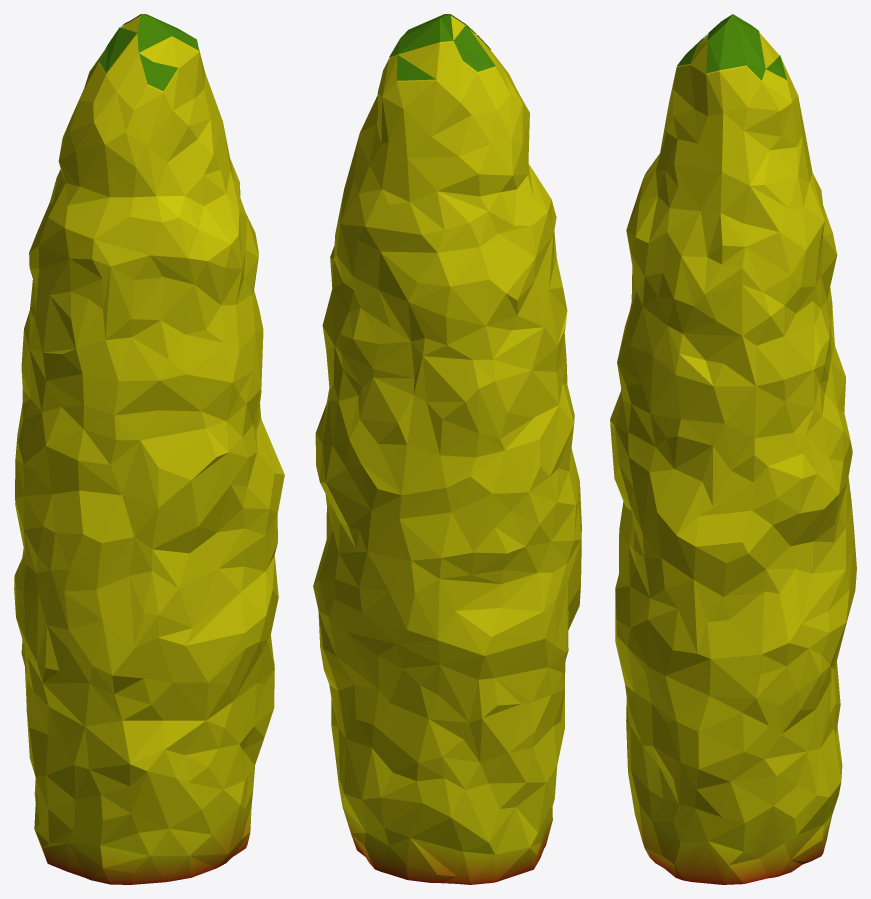
The model's file is canyon_pillar_6.glb.
The picture shows the model from 3 angles, left to right: view 1: azimuth 30°, elevation 25°; view 2: azimuth 150°, elevation 25°; view 3: azimuth 270°, elevation 25°; orthographic projection.
Parts seen in each view (by area): view 1: canyon_pillar_6.002; view 2: canyon_pillar_6.002; view 3: canyon_pillar_6.002.
Part boxes in pixels (left/top/right/bottom): canyon_pillar_6.002: left=14, top=14, right=284, bottom=884; canyon_pillar_6.002: left=313, top=14, right=581, bottom=884; canyon_pillar_6.002: left=610, top=14, right=856, bottom=884.
Size of what is drawn, in the model's own units: 15.54 by 52.56 by 14.23.
